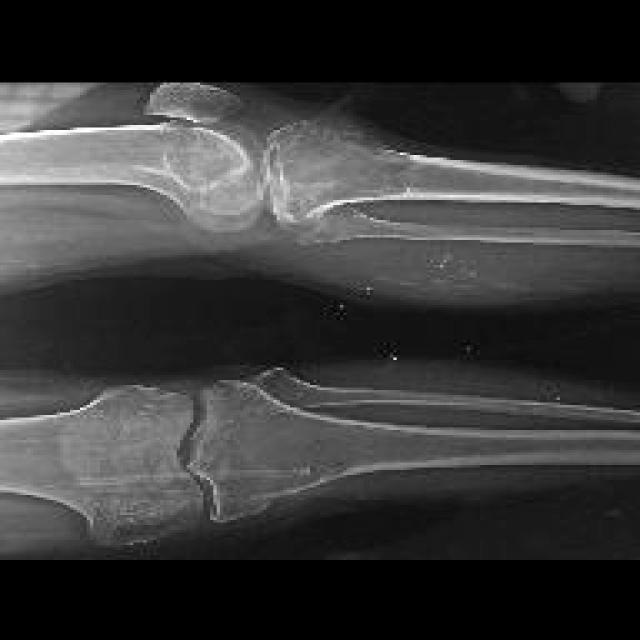bone-cancer: (271, 123, 424, 203), (213, 413, 358, 497)
